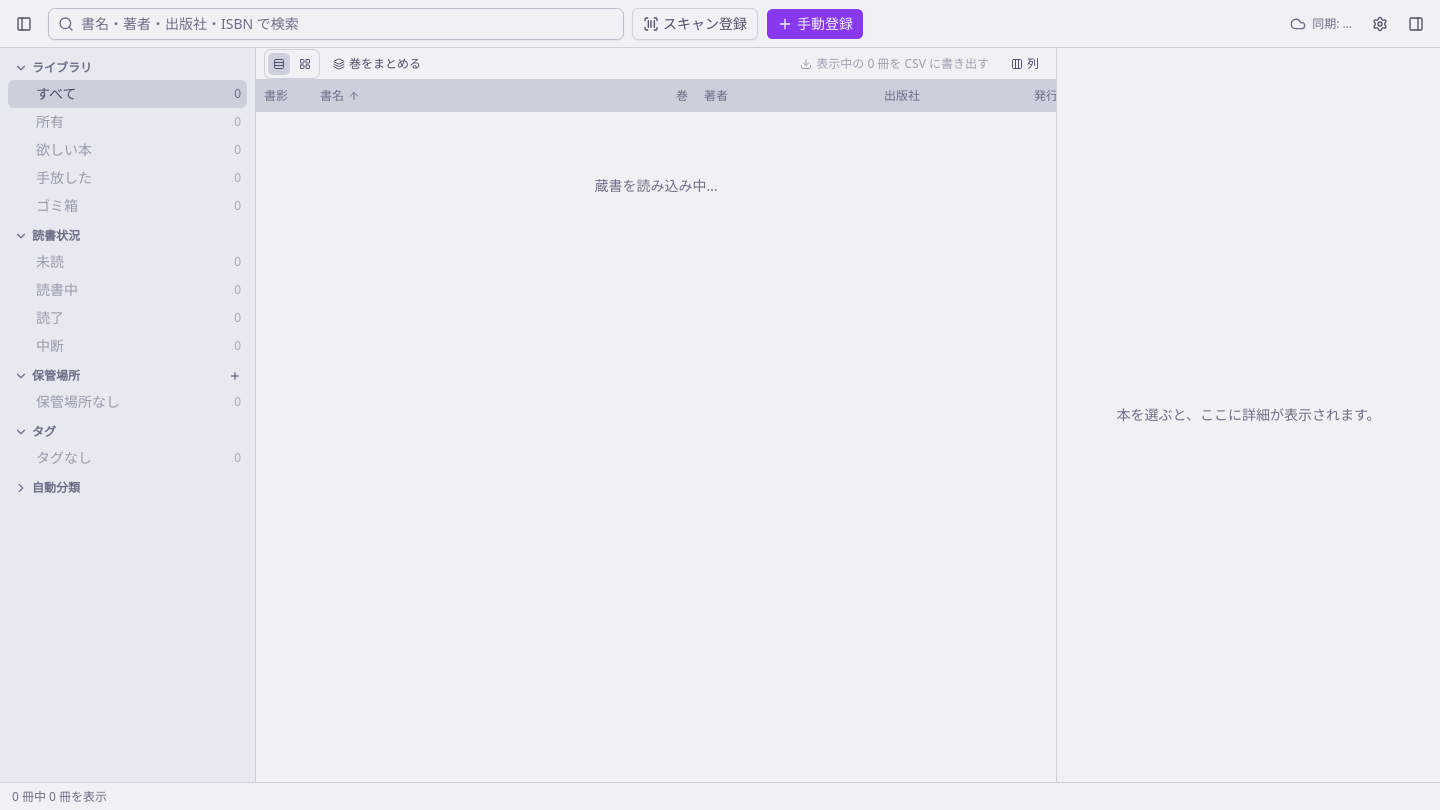
メイン画面 › 検索欄の ISBN（FR-SCAN-09） › 確認をキャンセルすると、画面は替えない
The image size is (1440, 810).
Type "9784140819005" into the search field named "蔵書を検索" at (336, 24), box [48,8,624,40]
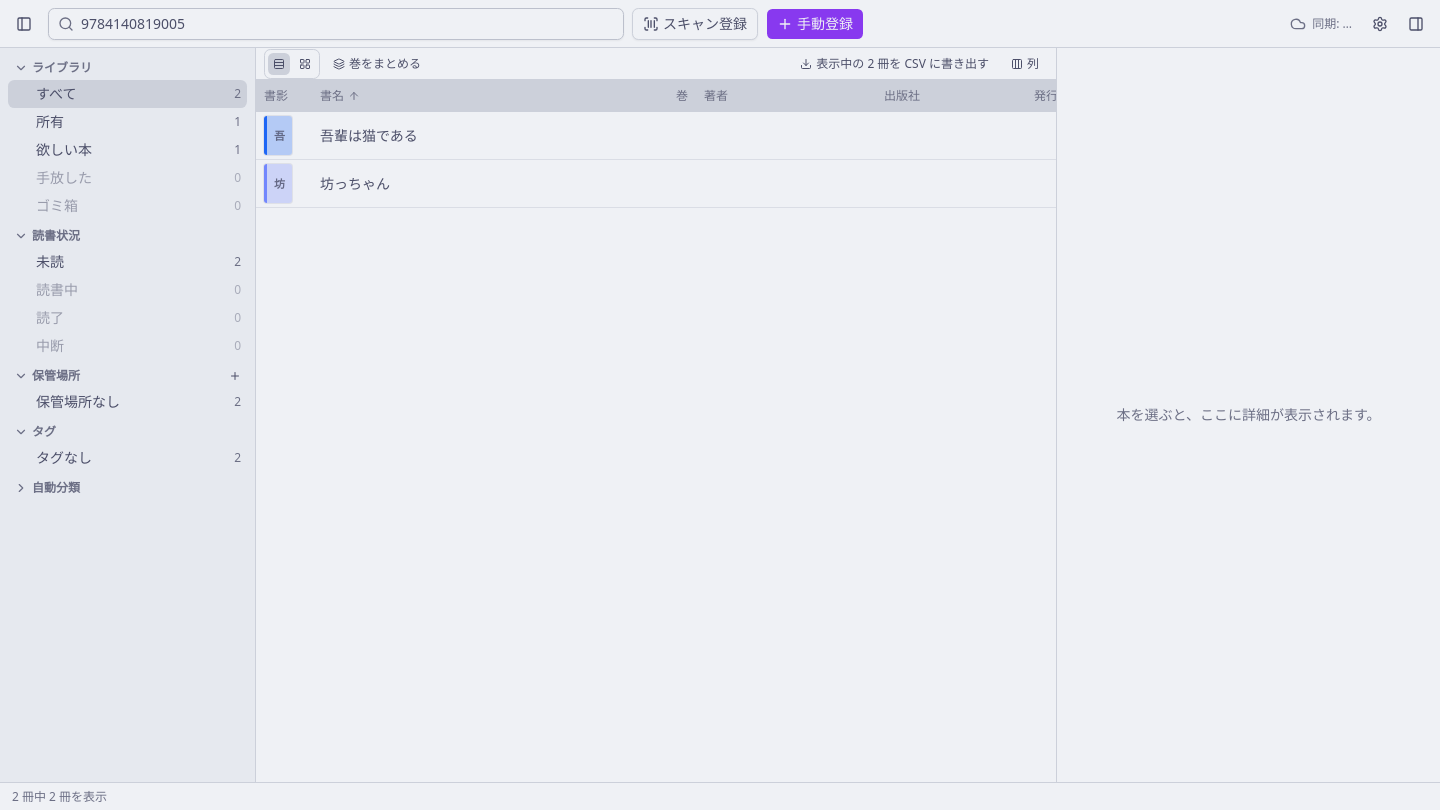
Press Enter in the search field named "蔵書を検索", box [48,8,624,40]
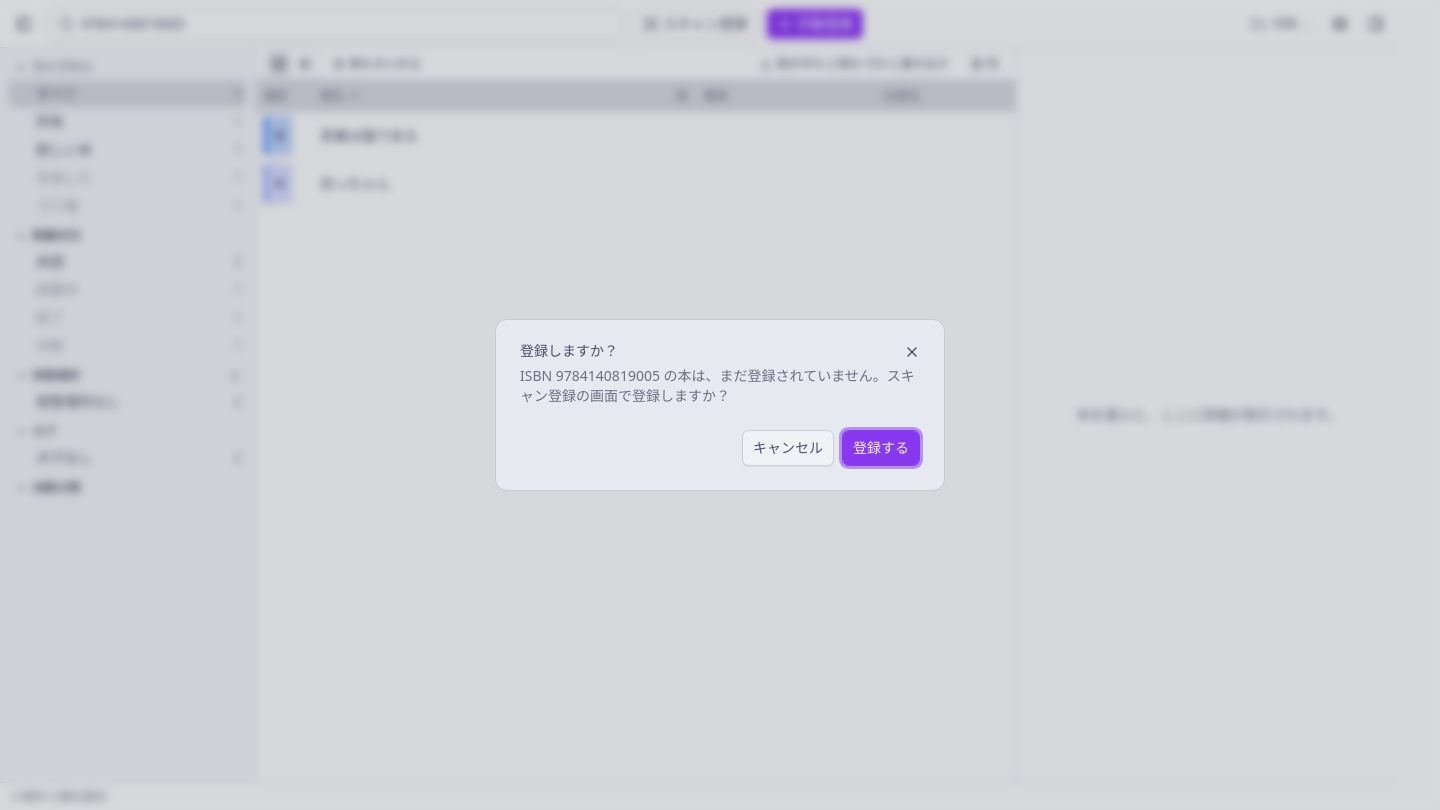
Click the button "キャンセル" at (788, 448), box [742,430,834,466]
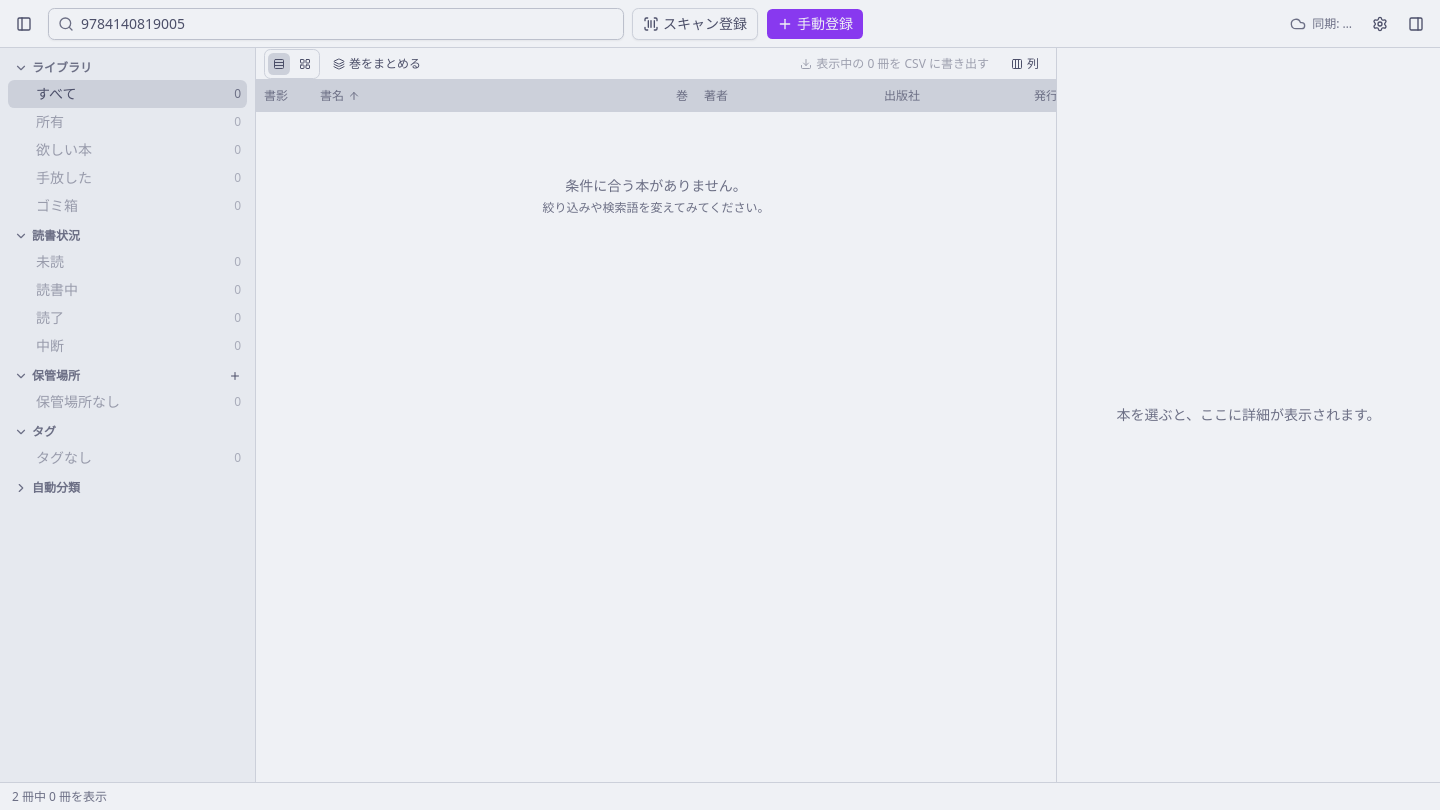
Now the heading "登録しますか？" is gone
